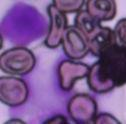L: (0, 0, 49, 48)
